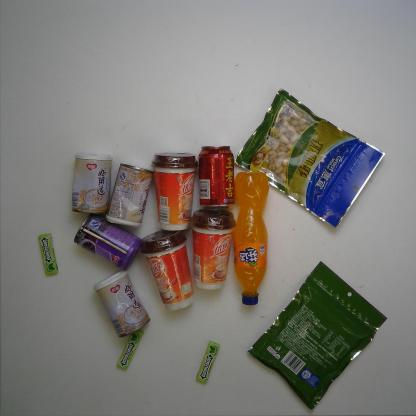Canned Food: (90, 265, 154, 339), (71, 210, 146, 272), (104, 161, 156, 230), (70, 150, 115, 216)
Dried Fruit: (230, 84, 388, 233), (244, 258, 390, 412)
Drink: (230, 166, 274, 309), (197, 142, 237, 213)
Gum: (116, 328, 146, 372), (194, 339, 222, 385), (35, 230, 60, 279)
Instant Drink: (138, 227, 197, 313), (186, 206, 239, 292), (146, 149, 200, 233)
